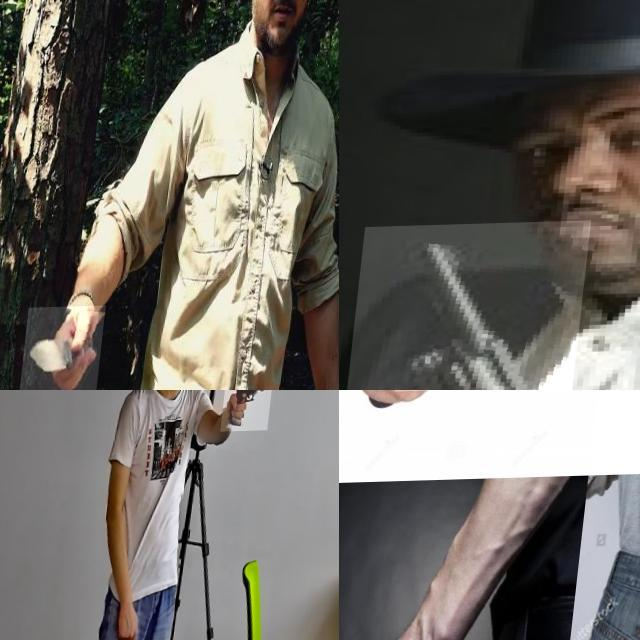-: (399, 390, 620, 489), (30, 306, 115, 390)
gun-knife-thesis - v11 Yolov5 augmented: (350, 222, 598, 390), (226, 390, 279, 433)
